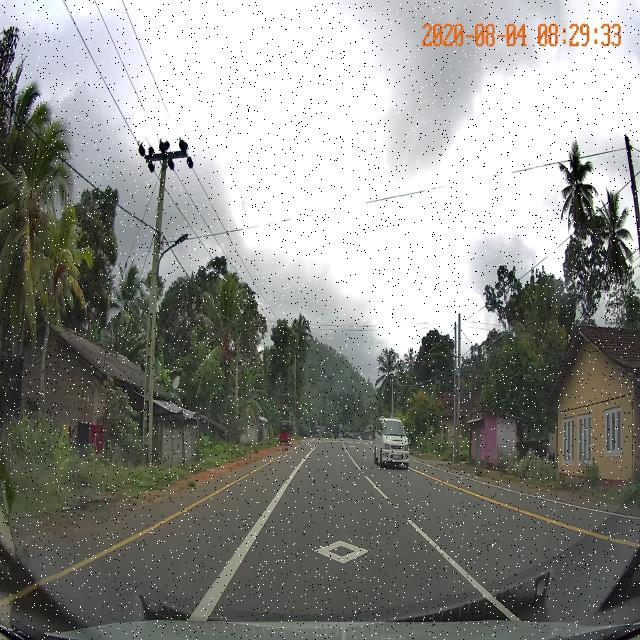diamond: (219, 501, 467, 570)
